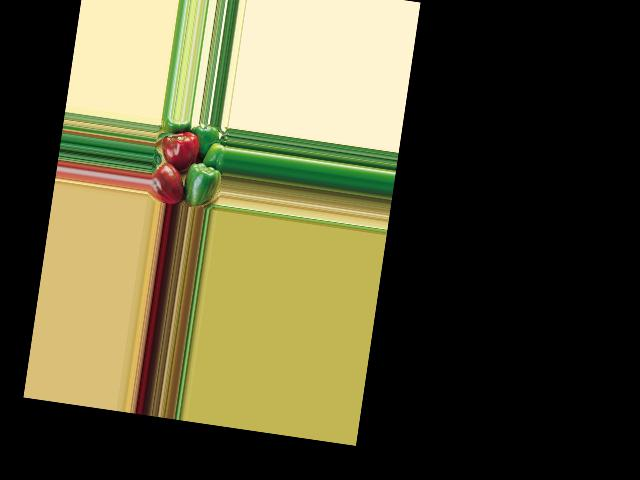bell_pepper: (148, 161, 185, 205)
